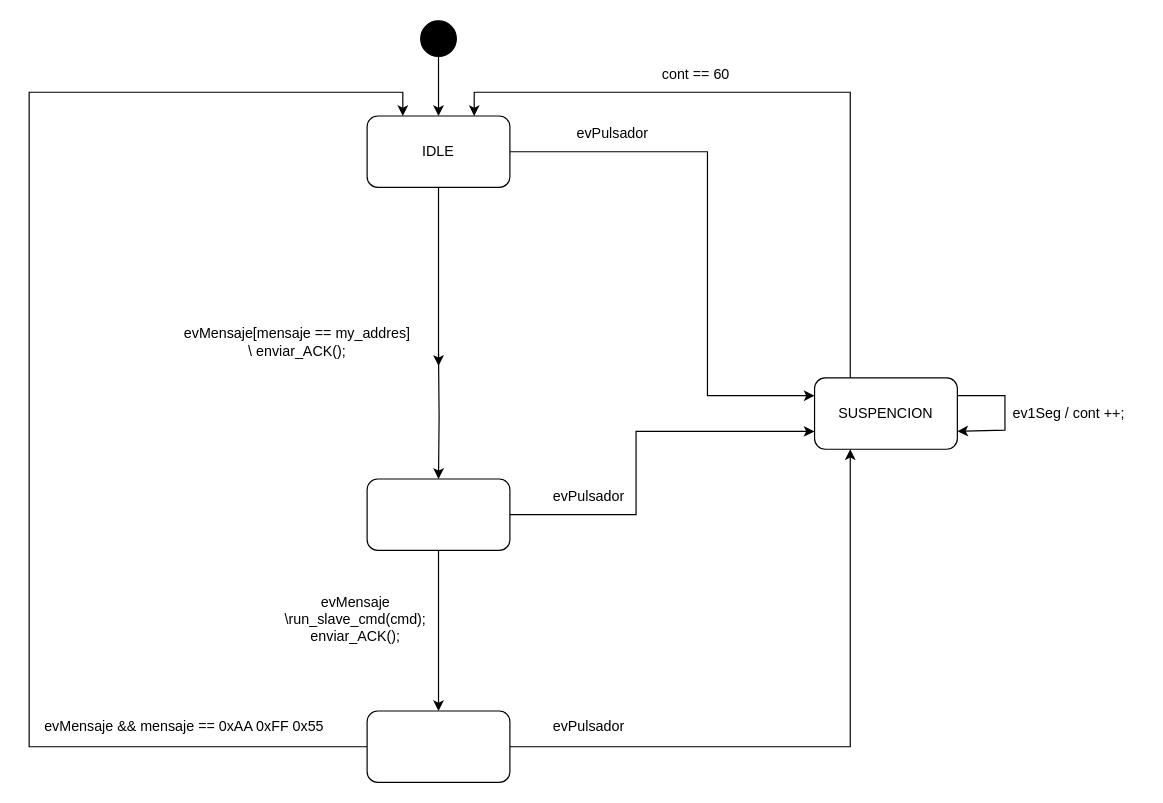
Some shapes in this 1163 by 803 pixel diagram are drawn without their labels. The centre of each missing label's shape, as x and y in pixels:
WAIT_FIN: the point at 438,746
WAIT_MSG: the point at 438,514
